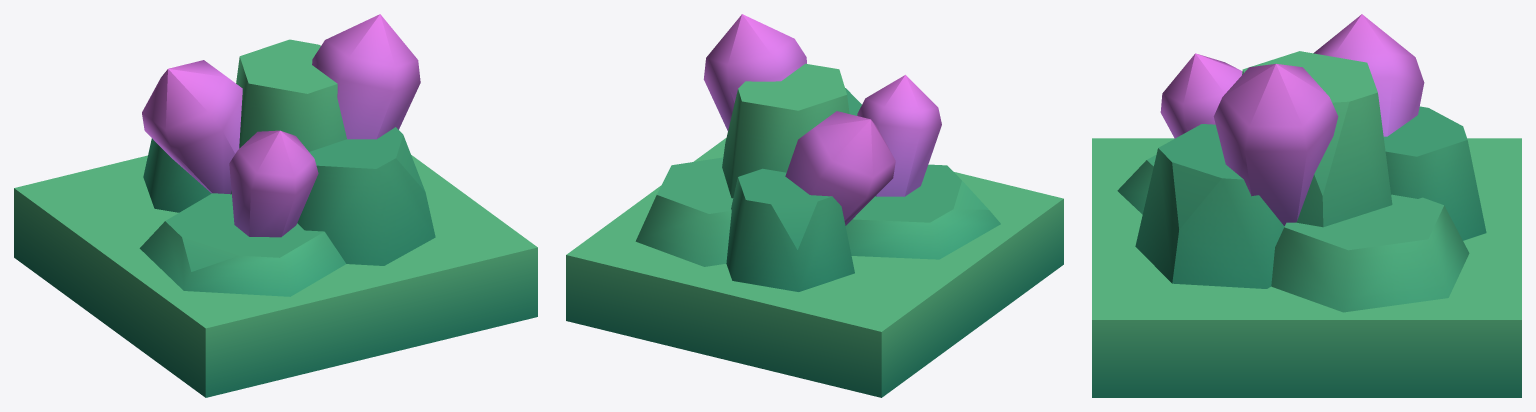
The model's file is tile-crystal.fbx.
The picture shows the model from 3 angles, left to right: view 1: azimuth 30°, elevation 25°; view 2: azimuth 150°, elevation 25°; view 3: azimuth 270°, elevation 25°; orthographic projection. The views are drawn at different scales.
Parts seen in each view (by area): view 1: tile-crystal; view 2: tile-crystal; view 3: tile-crystal.
Part boxes in pixels (x1,y1,x2,y2): tile-crystal: (14,14,537,397); tile-crystal: (566,14,1063,397); tile-crystal: (1092,14,1521,397).
Bounding box in the file's own units: 100 × 75.18 × 100.
